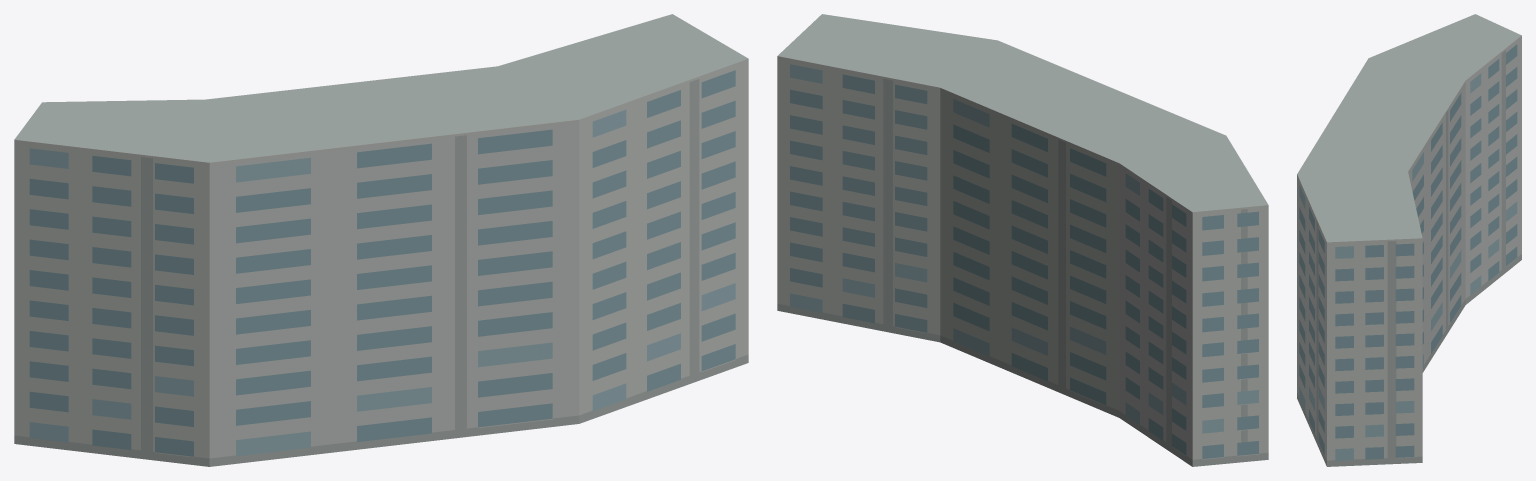
Rendered from residential-5ebb5fcf-43bd-4d54-9c91-9a37bde6f25e.glb.
The picture shows the model from 3 angles, left to right: view 1: azimuth 30°, elevation 25°; view 2: azimuth 150°, elevation 25°; view 3: azimuth 270°, elevation 25°; orthographic projection. The views are drawn at different scales.
Parts seen in each view (by area): view 1: residential-5ebb5fcf-43bd-4d54-9c91-9a37bde6f25e.tmp; view 2: residential-5ebb5fcf-43bd-4d54-9c91-9a37bde6f25e.tmp; view 3: residential-5ebb5fcf-43bd-4d54-9c91-9a37bde6f25e.tmp.
Boxes of the visible parts, box(x1,y1,x2,y2) form: residential-5ebb5fcf-43bd-4d54-9c91-9a37bde6f25e.tmp: box(14, 14, 748, 466); residential-5ebb5fcf-43bd-4d54-9c91-9a37bde6f25e.tmp: box(777, 14, 1268, 466); residential-5ebb5fcf-43bd-4d54-9c91-9a37bde6f25e.tmp: box(1297, 14, 1521, 466).
Bounding box in the file's own units: 69.8 × 32 × 29.03.
